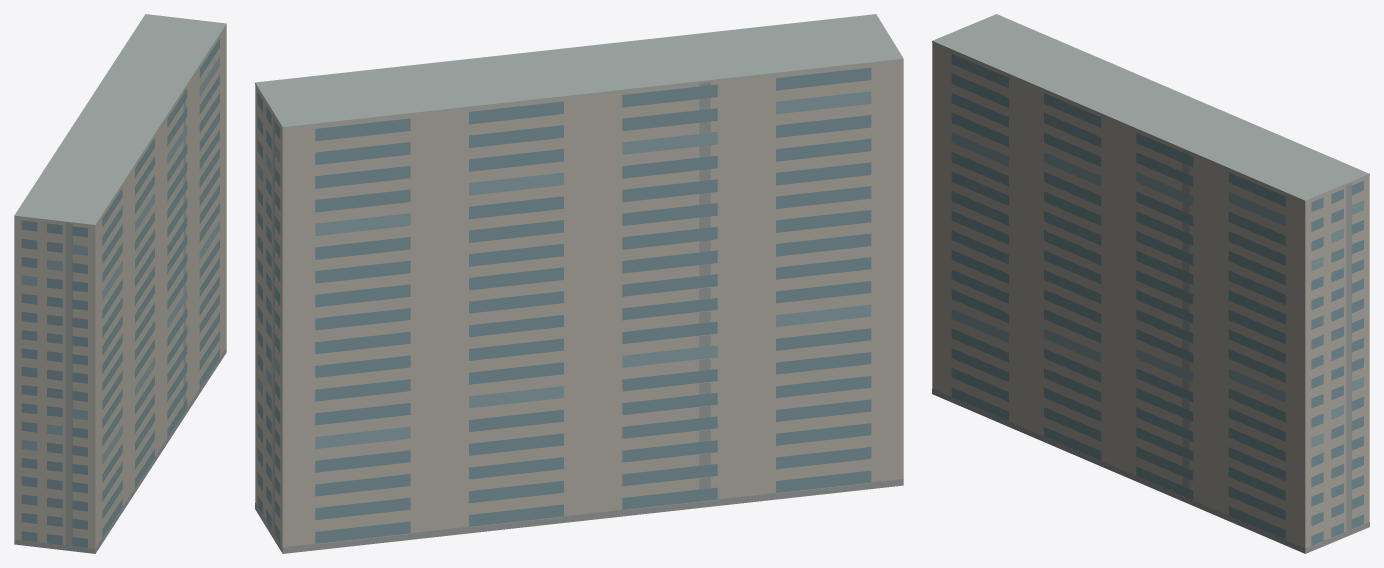
Rendered from residential-0ac895bf-a007-4032-8142-acee68ceb217.glb.
3 renders of one model, left to right at view 1: azimuth 30°, elevation 25°; view 2: azimuth 150°, elevation 25°; view 3: azimuth 270°, elevation 25°, orthographic. The views are drawn at different scales.
Visible parts, largest first — view 1: residential-0ac895bf-a007-4032-8142-acee68ceb217.tmp; view 2: residential-0ac895bf-a007-4032-8142-acee68ceb217.tmp; view 3: residential-0ac895bf-a007-4032-8142-acee68ceb217.tmp.
Part boxes in pixels (x1=…): residential-0ac895bf-a007-4032-8142-acee68ceb217.tmp: x1=14, y1=14, x2=226, y2=553; residential-0ac895bf-a007-4032-8142-acee68ceb217.tmp: x1=255, y1=14, x2=903, y2=553; residential-0ac895bf-a007-4032-8142-acee68ceb217.tmp: x1=932, y1=14, x2=1369, y2=553.
Size of the model in its own units: 54.4 by 48 by 53.9.
